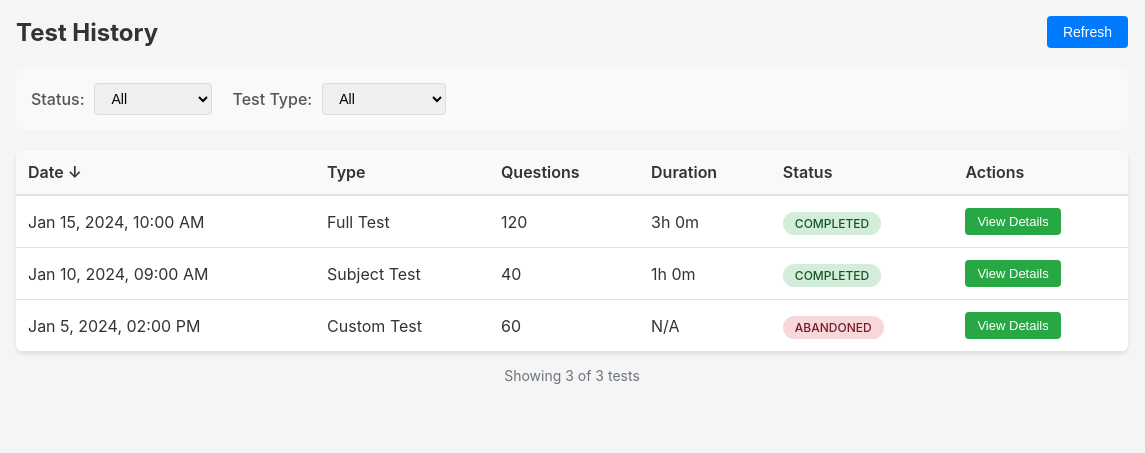
Test: TestHistoryList › should refresh history when refresh button is clicked
Expected: the text "Showing 3 of 3 tests" is shown, [504, 367, 640, 384]
Click the button "Refresh" at (1088, 32), box [1047, 16, 1128, 48]
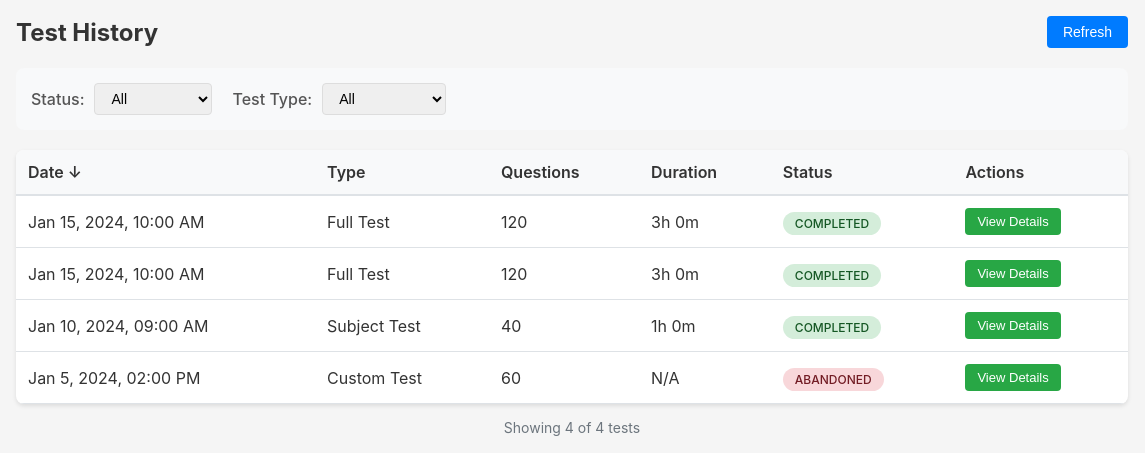
Expected: the text "Showing 4 of 4 tests" is shown, [504, 419, 640, 436]
